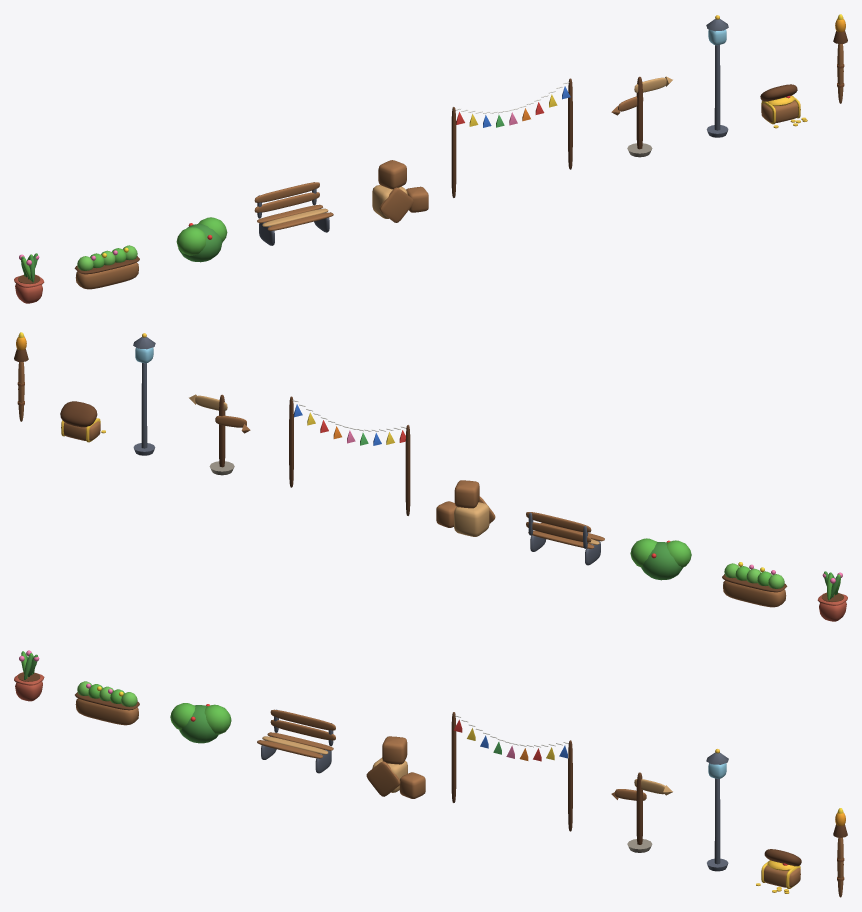
The model's file is Deco_EscapeJuguete.fbx.
3 views of the same model, one above another, from view 1: azimuth 30°, elevation 25°; view 2: azimuth 150°, elevation 25°; view 3: azimuth 330°, elevation 25° (orthographic).
Parts seen in each view (by area): view 1: Banco, Cajas.001, Jardinera, Guirnalda, Arbusto, Poste indicador, Tesoro, Maceta, Farola.001; view 2: Jardinera, Cajas.001, Banco, Arbusto, Guirnalda, Tesoro, Poste indicador, Maceta, Farola.001; view 3: Banco, Cajas.001, Jardinera, Arbusto, Guirnalda, Poste indicador, Tesoro, Maceta, Farola.001, Antorcha tiki.
Boxes of the visible parts, x1,y1,x2,y2 form: Banco: (254,182,333,245); Cajas.001: (372,160,428,222); Jardinera: (74,245,139,289); Guirnalda: (451,78,572,197); Arbusto: (176,217,227,262); Poste indicador: (611,76,672,157); Tesoro: (760,84,807,128); Maceta: (14,253,44,303); Farola.001: (706,15,728,137); Jardinera: (722,562,787,607); Cajas.001: (436,480,495,536); Banco: (526,512,604,565); Arbusto: (630,538,691,580); Guirnalda: (289,396,410,515); Tesoro: (60,401,105,442); Poste indicador: (189,394,250,475); Maceta: (817,571,847,621); Farola.001: (133,333,155,455); Banco: (257,709,335,773); Cajas.001: (366,736,425,798); Jardinera: (75,681,139,725); Arbusto: (170,703,231,743); Guirnalda: (451,712,572,831); Poste indicador: (611,772,672,852); Tesoro: (756,849,801,893); Maceta: (14,650,44,701); Farola.001: (706,749,728,871); Antorcha tiki: (833,824,847,897).
Size of the model in its own units: 22.78 by 3.21 by 1.06.
Materials: 2 (2 with a texture image).
